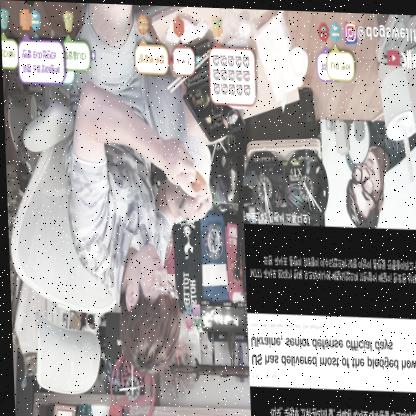streamer: (59, 2, 235, 379)
